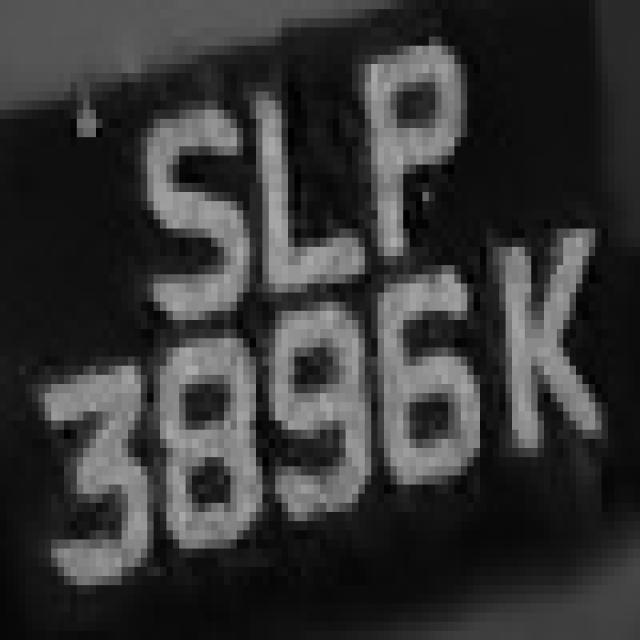3: (25, 348, 154, 585)
6: (358, 292, 493, 503)
8: (134, 320, 269, 576)
9: (243, 265, 384, 558)
K: (474, 220, 608, 476)
L: (243, 46, 371, 302)
P: (358, 18, 480, 284)
S: (128, 82, 250, 329)
